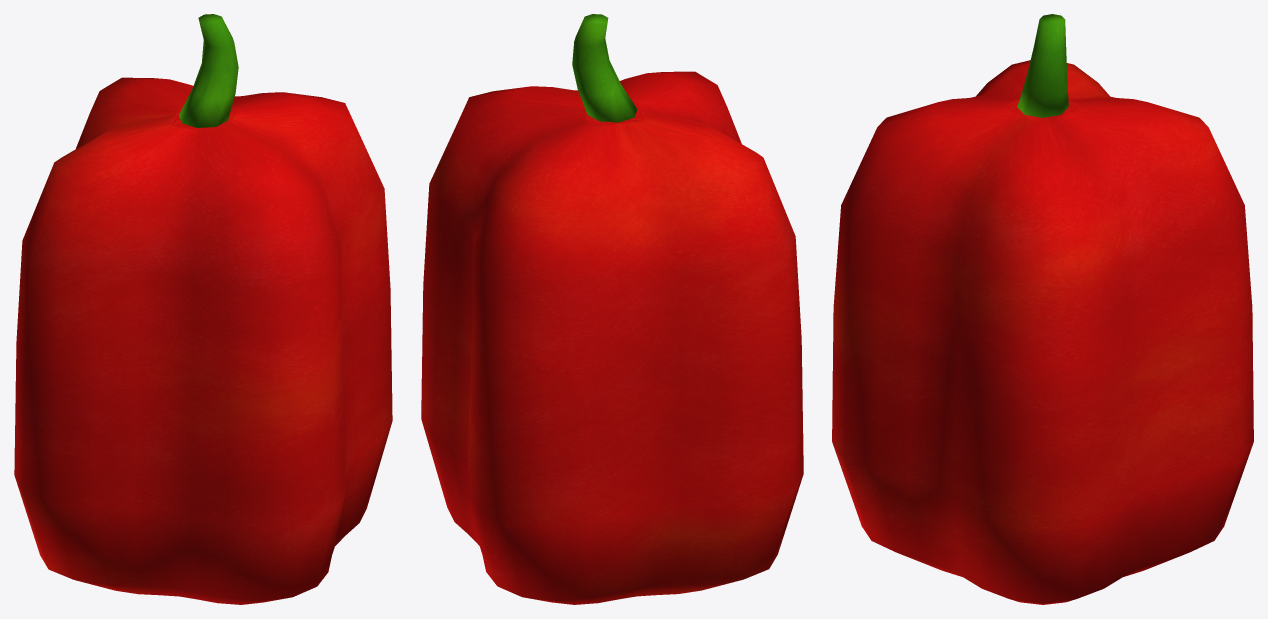
The model's file is red_pepper-73u6LnD3.glb.
The picture shows the model from 3 angles, left to right: view 1: azimuth 30°, elevation 25°; view 2: azimuth 150°, elevation 25°; view 3: azimuth 270°, elevation 25°; orthographic projection.
Parts seen in each view (by area): view 1: FLC_red_pepper; view 2: FLC_red_pepper; view 3: FLC_red_pepper.
Part boxes in pixels (x1,y1,x2,y2): FLC_red_pepper: [14, 14, 392, 604]; FLC_red_pepper: [421, 14, 803, 604]; FLC_red_pepper: [832, 14, 1253, 604].
Bounding box in the file's own units: 0.9 × 1.27 × 0.9.
Materials: 2 (2 with a texture image).
